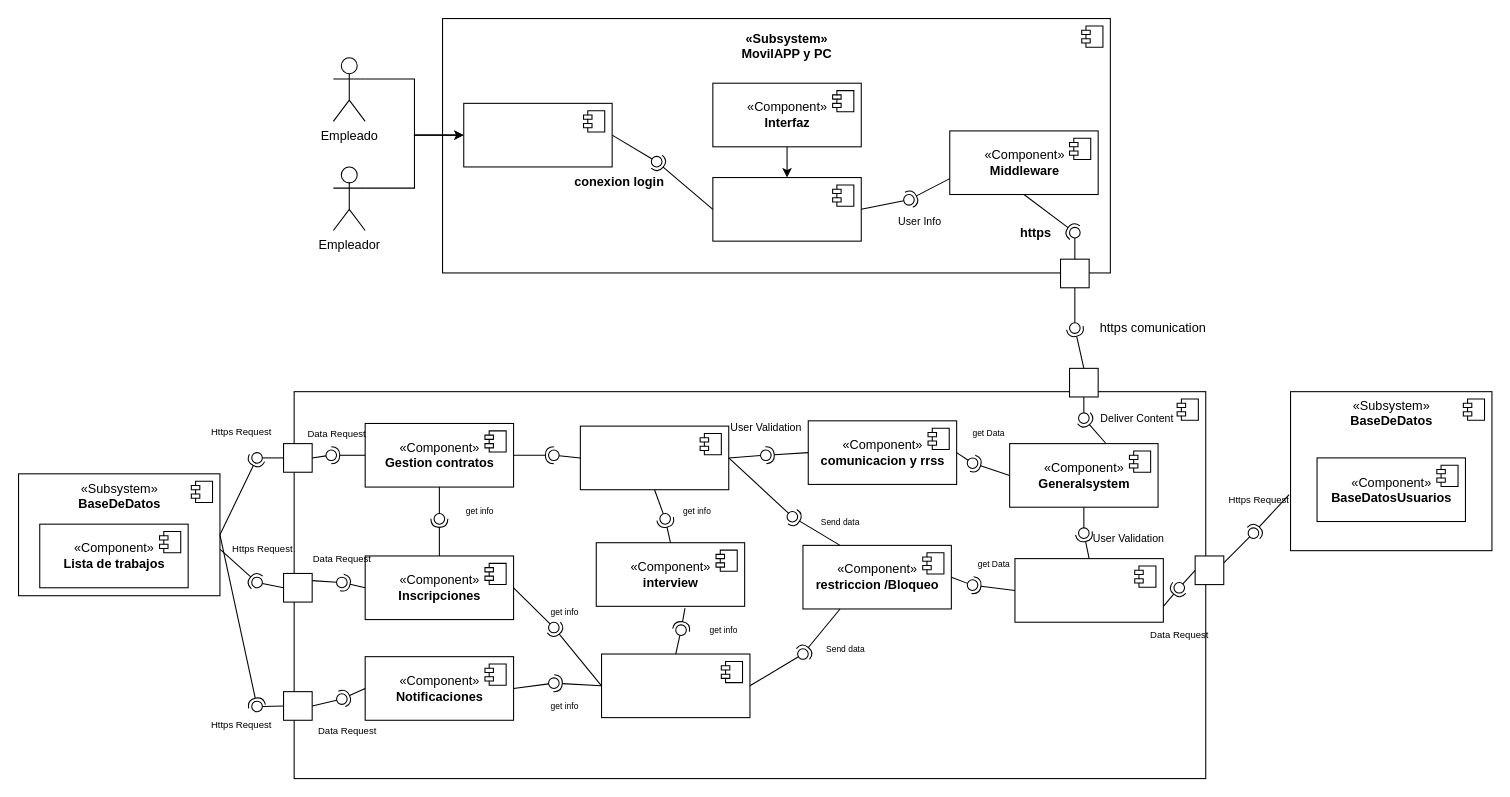
Image size: 1510x797. Some labels were removed from this diagram. Each missing label, with the box of its shape:
«Component» AdminUser: (1014, 558, 1163, 622)
«Component» Empleado: (600, 653, 750, 718)
«Component» Empleador: (579, 425, 729, 490)
«Component» InicioApp: (463, 102, 612, 167)
«Component» Login: (712, 176, 861, 241)
